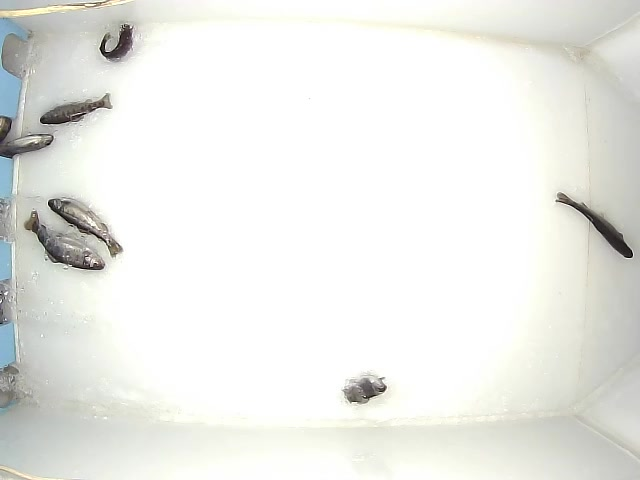fish: (555, 192, 633, 258), (24, 208, 105, 271), (48, 197, 124, 259), (40, 92, 113, 125), (99, 23, 134, 62), (343, 375, 387, 405), (1, 134, 54, 156)
